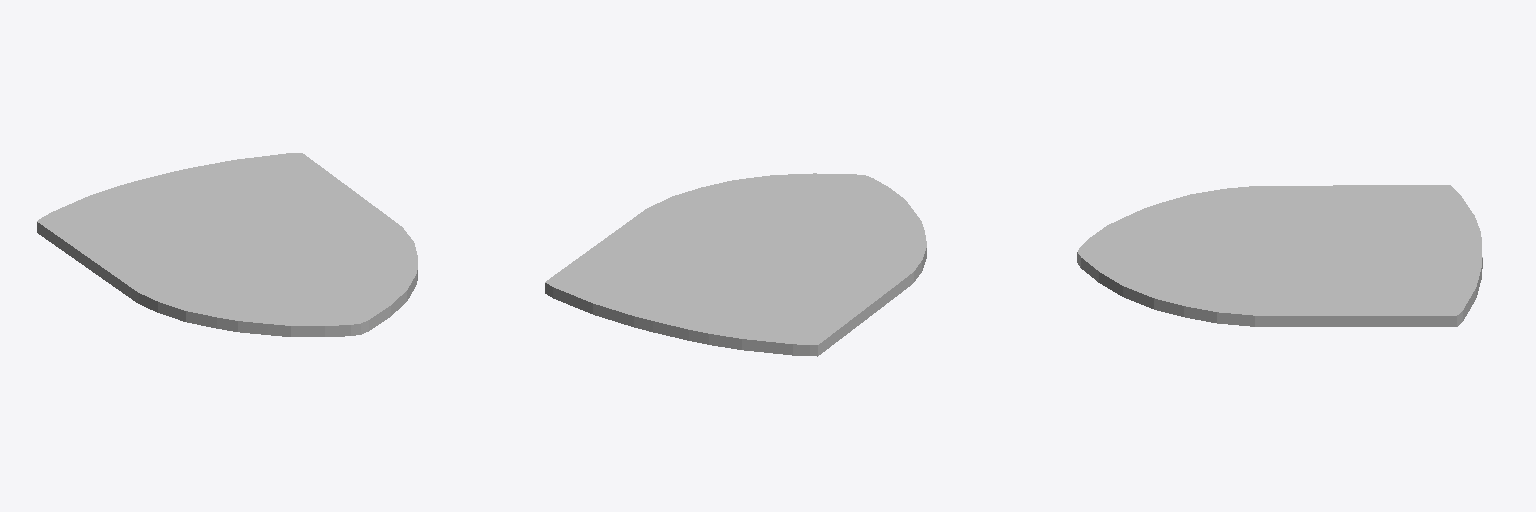
The model's file is porsche.obj.
The picture shows the model from 3 angles: view 1: azimuth 30°, elevation 25°; view 2: azimuth 150°, elevation 25°; view 3: azimuth 270°, elevation 25°; orthographic projection.
Bounding box in the file's own units: 1.46 × 0.0584 × 1.9.